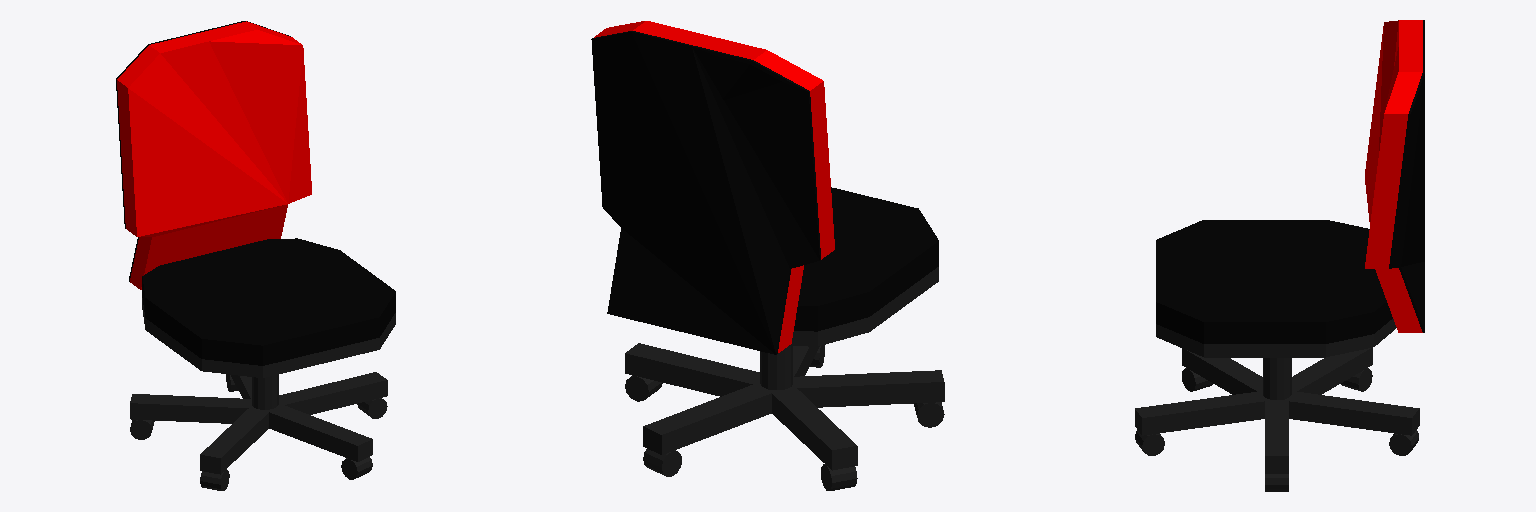
URDF robot description (room602-chair5):
<?xml version="1.0"?>
<robot name="room602-chair5"
       xmlns:xi="http://www.w3.org/2001/XInclude">
  <gazebo>
    <static>false</static>
  </gazebo>
  <link name="nil_link">
    <visual>
      <origin xyz="0 0 0" rpy="0 -0 0"/>
      <geometry>
        <mesh filename="model://room602-chair5/meshes/nil_link_mesh.dae" scale="1 1 1" />
      </geometry>
    </visual>
    <collision>
      <origin xyz="0 0 0" rpy="0 -0 0"/>
      <geometry>
        <mesh filename="model://room602-chair5/meshes/nil_link_mesh.dae" scale="1 1 1" />
      </geometry>
    </collision>
    <inertial>
      <mass value="0.001" />
      <origin xyz="0 0 0" rpy="0 -0 0"/>
      <inertia ixx="1e-03" ixy="0" ixz="0" iyy="1e-03" iyz="0" izz="1e-03"/>
    </inertial>
  </link>
  <gazebo reference="nil_link">
    <mu1>0.9</mu1>
    <mu2>0.9</mu2>
  </gazebo>
</robot>

--- What the picture shows (computed from the rendered views, not written in the file) ---
3 views of the same robot in one strip: view 1: azimuth 30°, elevation 25°; view 2: azimuth 150°, elevation 25°; view 3: azimuth 270°, elevation 25° (orthographic).
Robot: room602-chair5 — 1 links, 0 joints (none); root link nil_link; default pose: every joint at zero.
Links seen in each view (by area): view 1: nil_link; view 2: nil_link; view 3: nil_link.
Link boxes in pixels (bbox=[...]): nil_link: bbox=[116, 21, 395, 490]; nil_link: bbox=[591, 21, 944, 490]; nil_link: bbox=[1135, 20, 1424, 491].
Bounding box of the posed robot: 0.5574 × 0.598 × 0.88 m (x, y, z).
Meshes: 1 distinct files referenced, 1 mesh visuals loaded (1 Collada DAE).